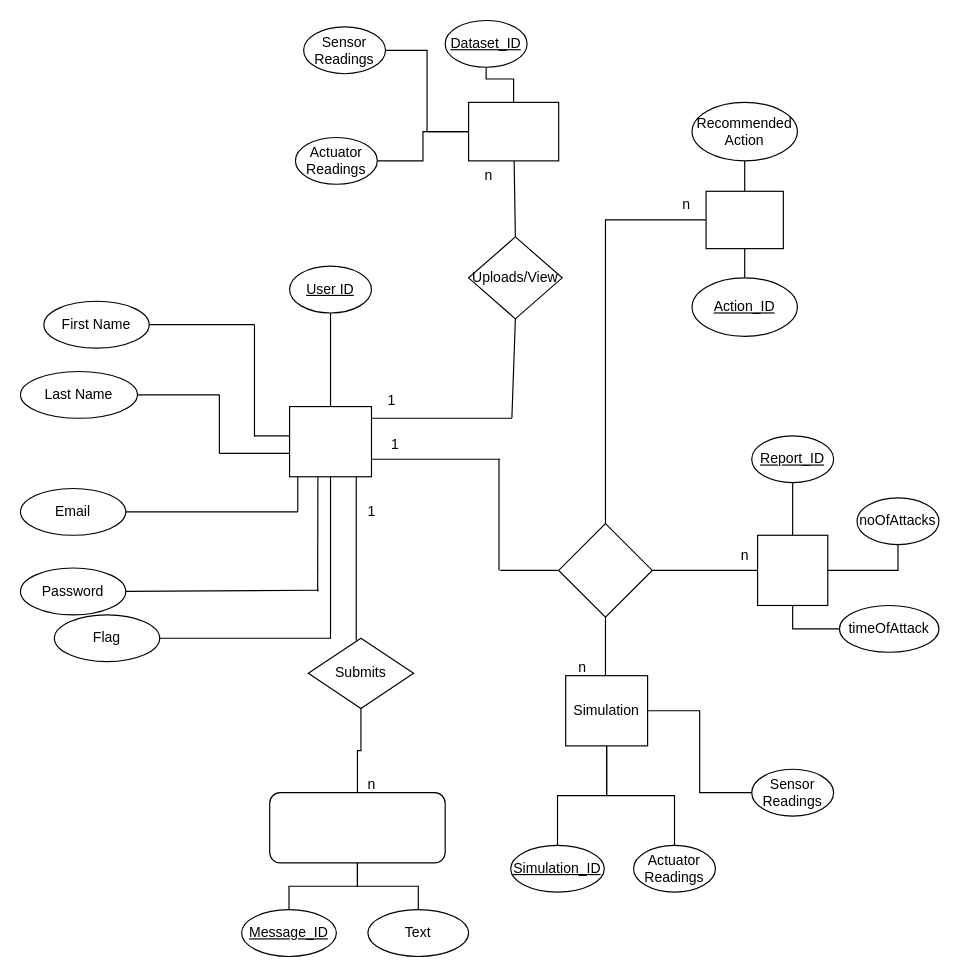
This 959x977 diagram has some shape labels left out. Each missing label, with the box of its shape:
Action: (705, 190, 783, 249)
Contact Us Reponses: (269, 792, 445, 863)
Reports: (756, 534, 828, 605)
User Dataset: (467, 101, 559, 161)
Users: (288, 405, 371, 477)
Views: (558, 522, 652, 617)
